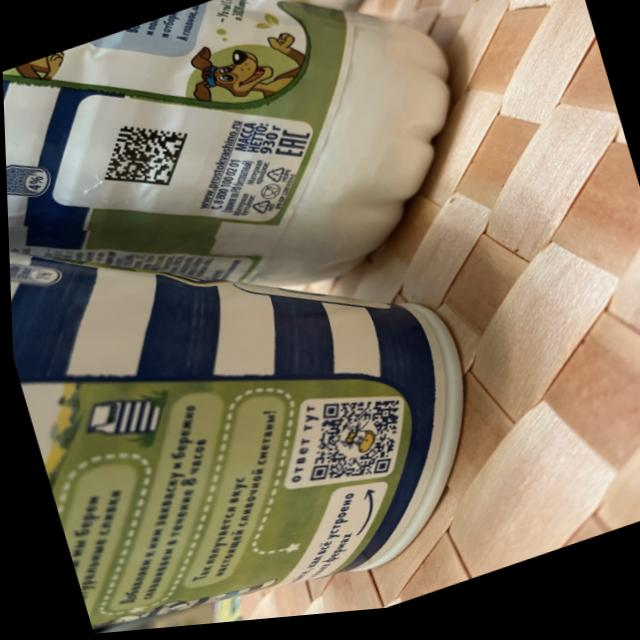datamatrix: (86, 106, 202, 210)
qrcode: (285, 384, 417, 506)
